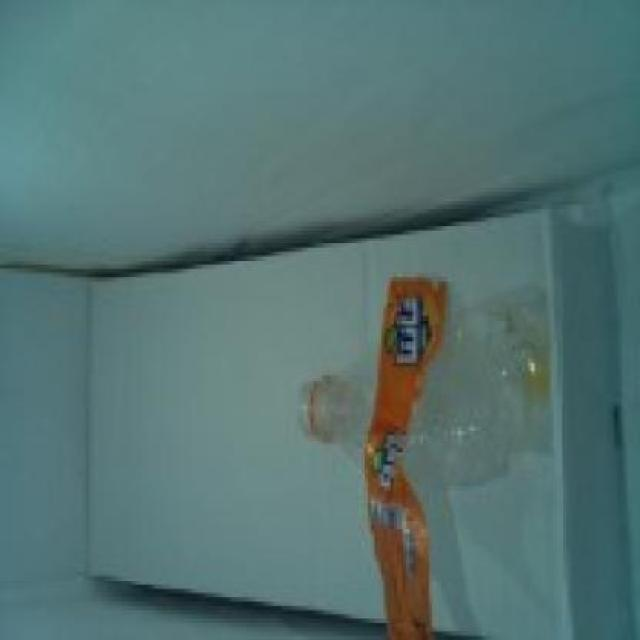Pet_Bottle: (291, 270, 560, 510)
